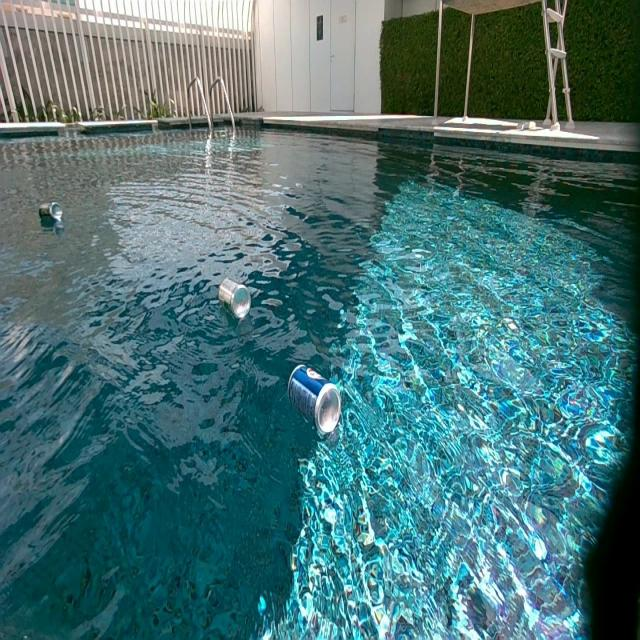Cans: (289, 366, 346, 437), (218, 279, 250, 320), (39, 203, 63, 224)
